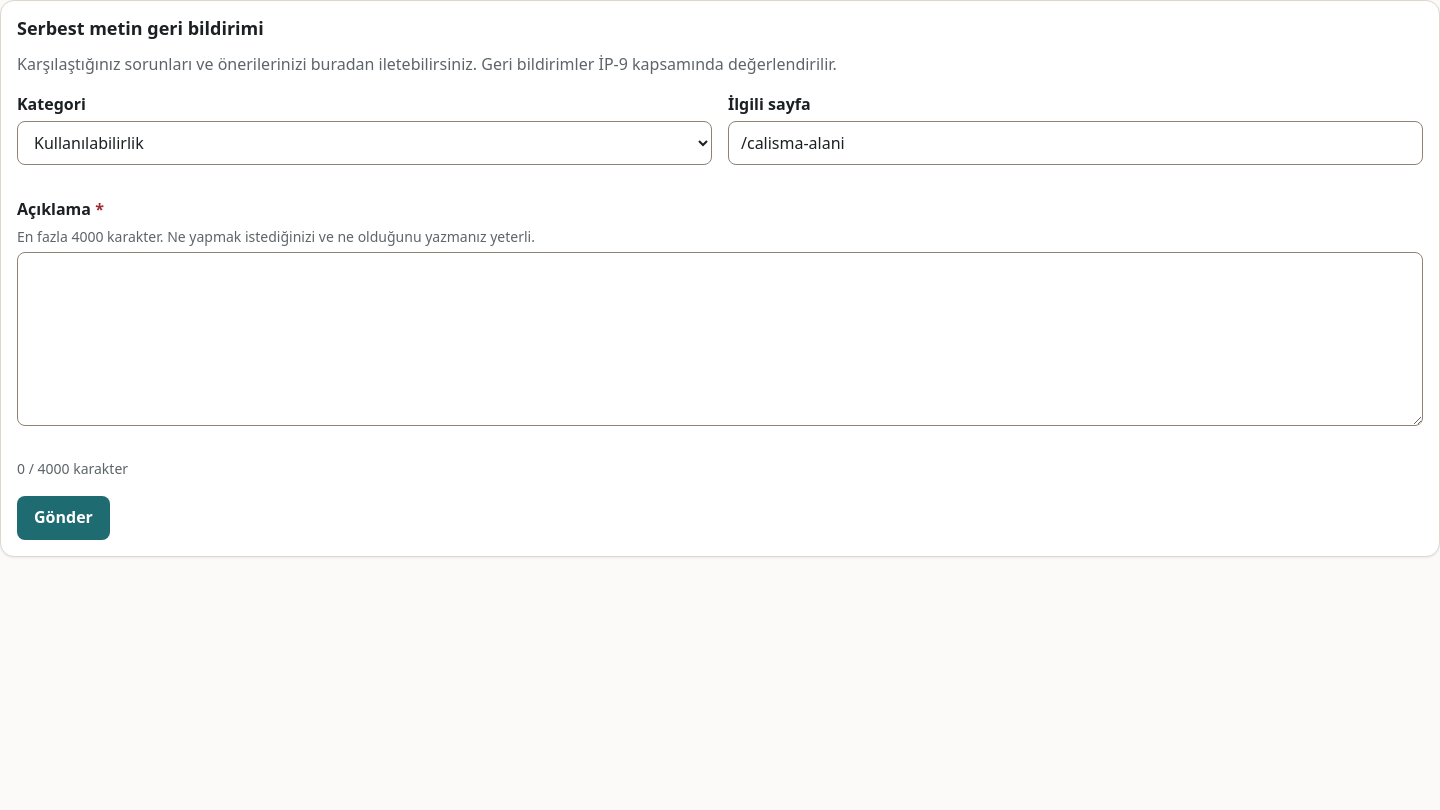
Test: free-text feedback › sends the category, the text and the page it was written on
Step 1. Select "Kritik hata" in the dropdown labelled "Kategori" → (364, 143), box x1=17 y1=121 x2=712 y2=165
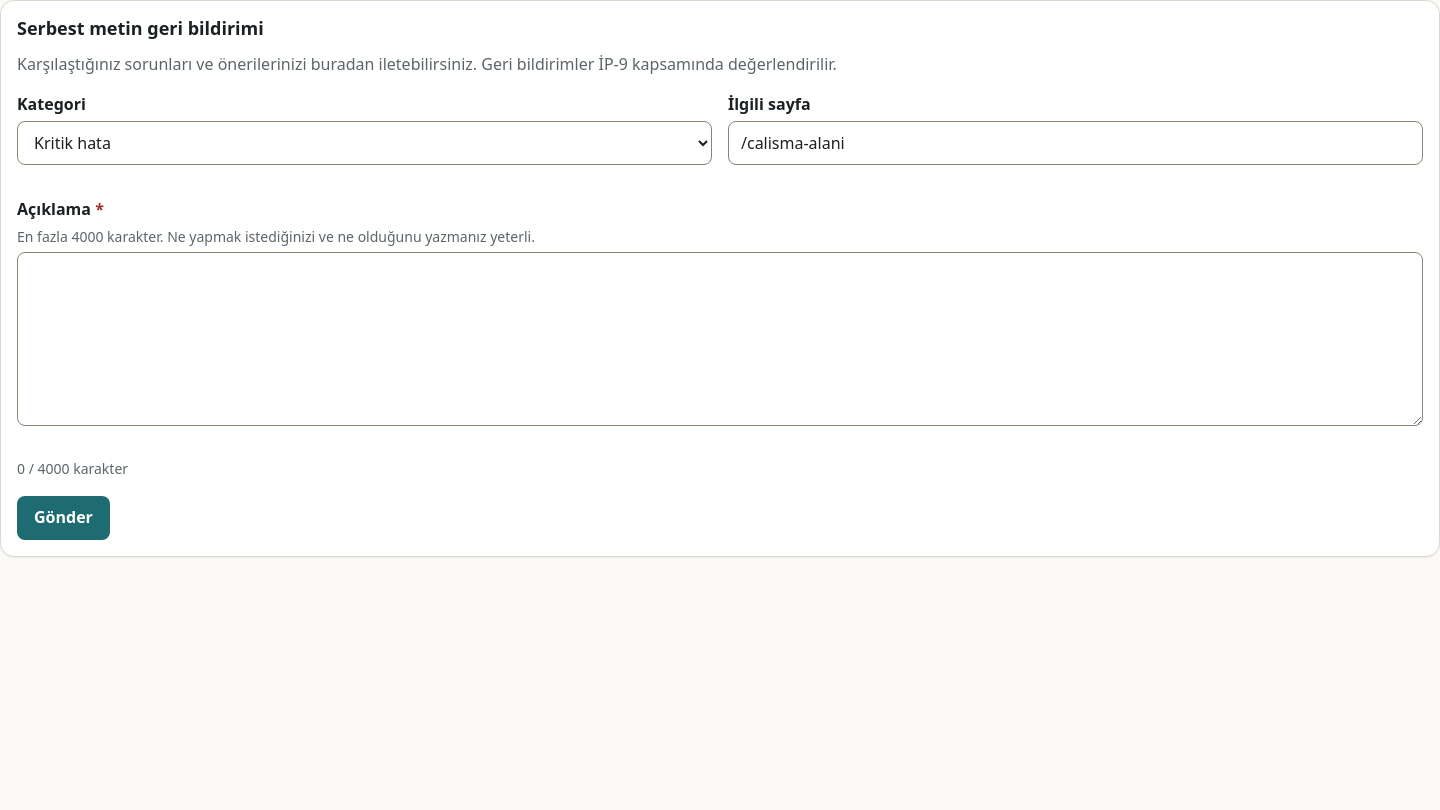
Step 2. Type "Komut çubuğu küçük." into the text box labelled "Açıklama *" → (720, 339), box x1=17 y1=252 x2=1423 y2=426
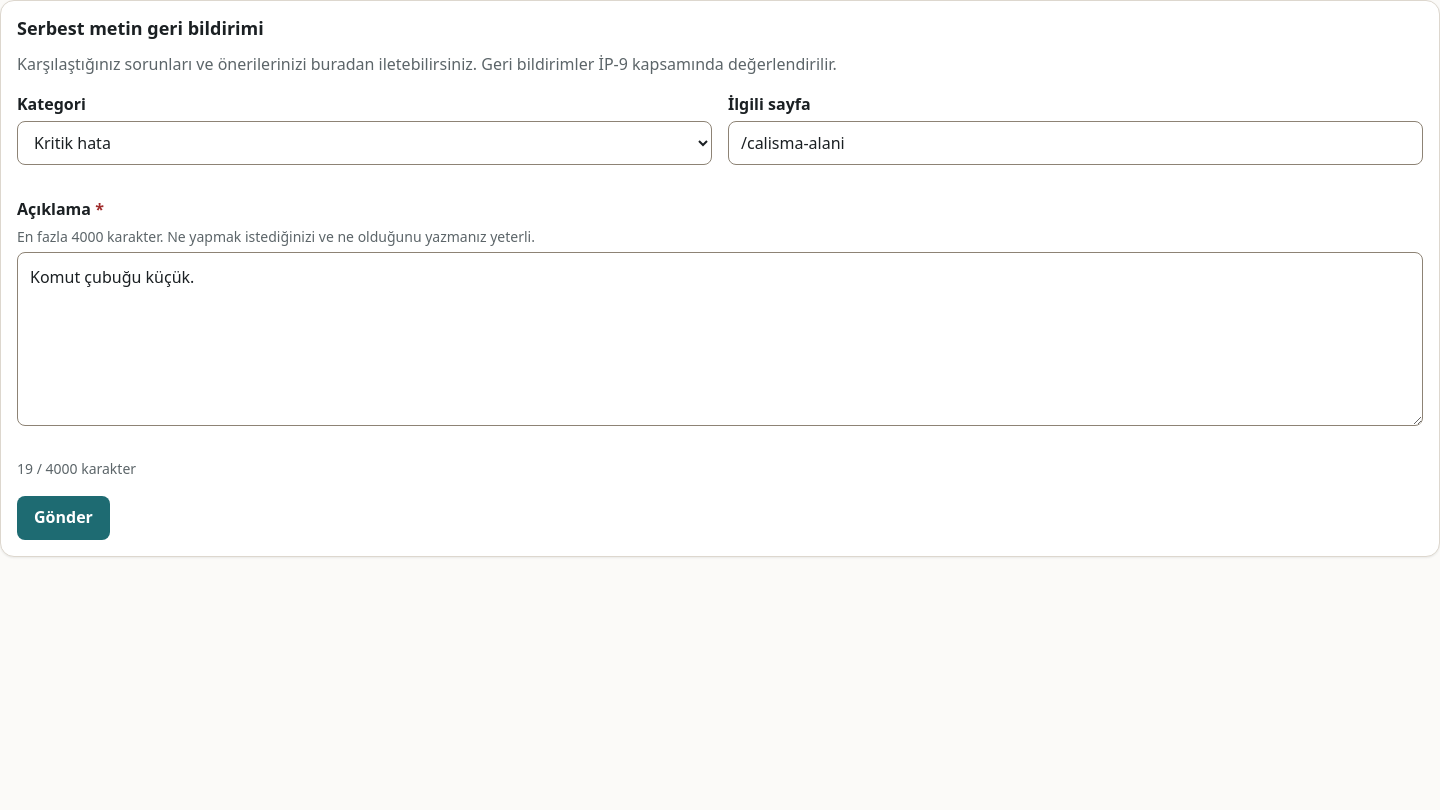
Step 3. Click the button "Gönder" → (63, 518), box x1=17 y1=496 x2=110 y2=540
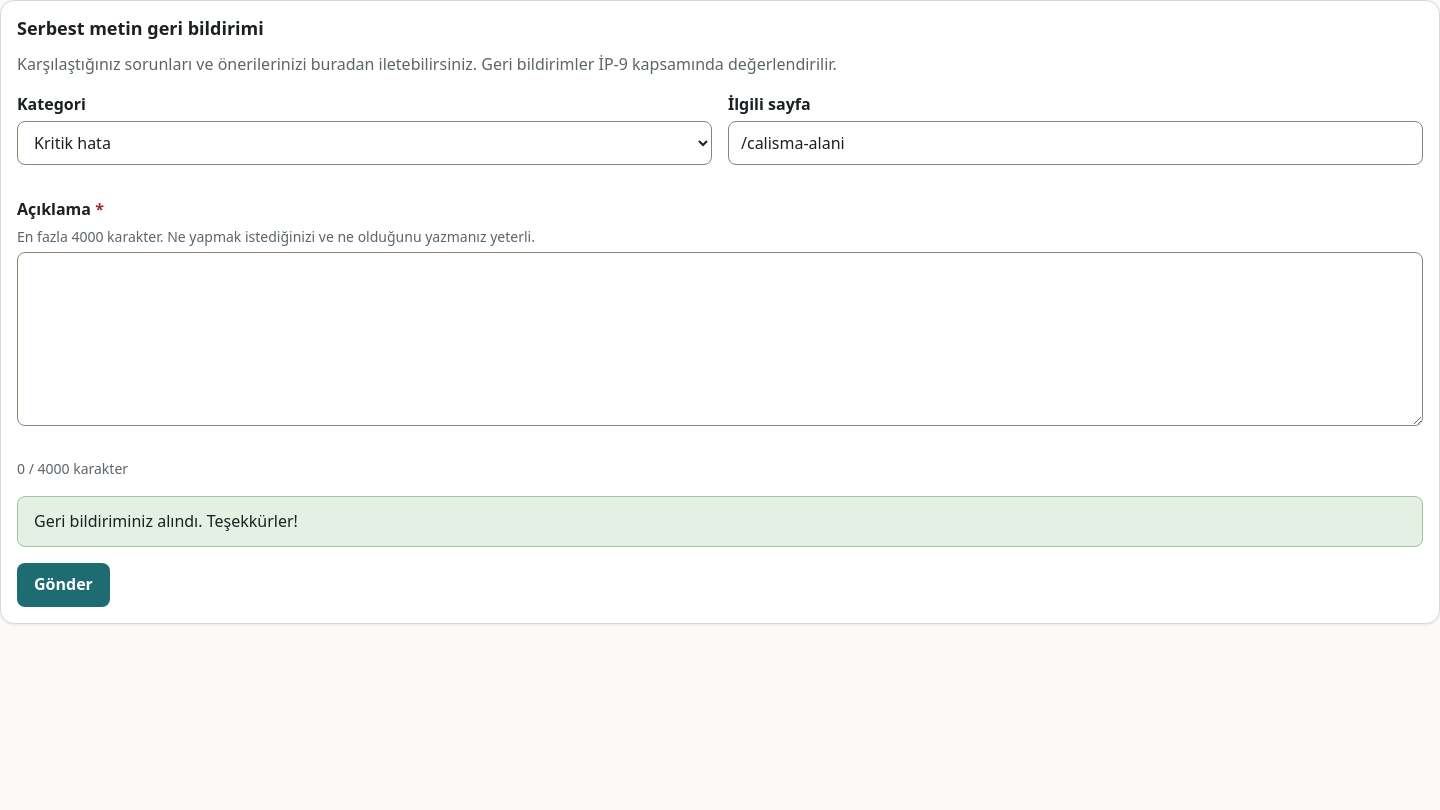
Now the text "Geri bildiriminiz alındı. Teşekkürler!" is shown, box x1=17 y1=496 x2=1423 y2=547
